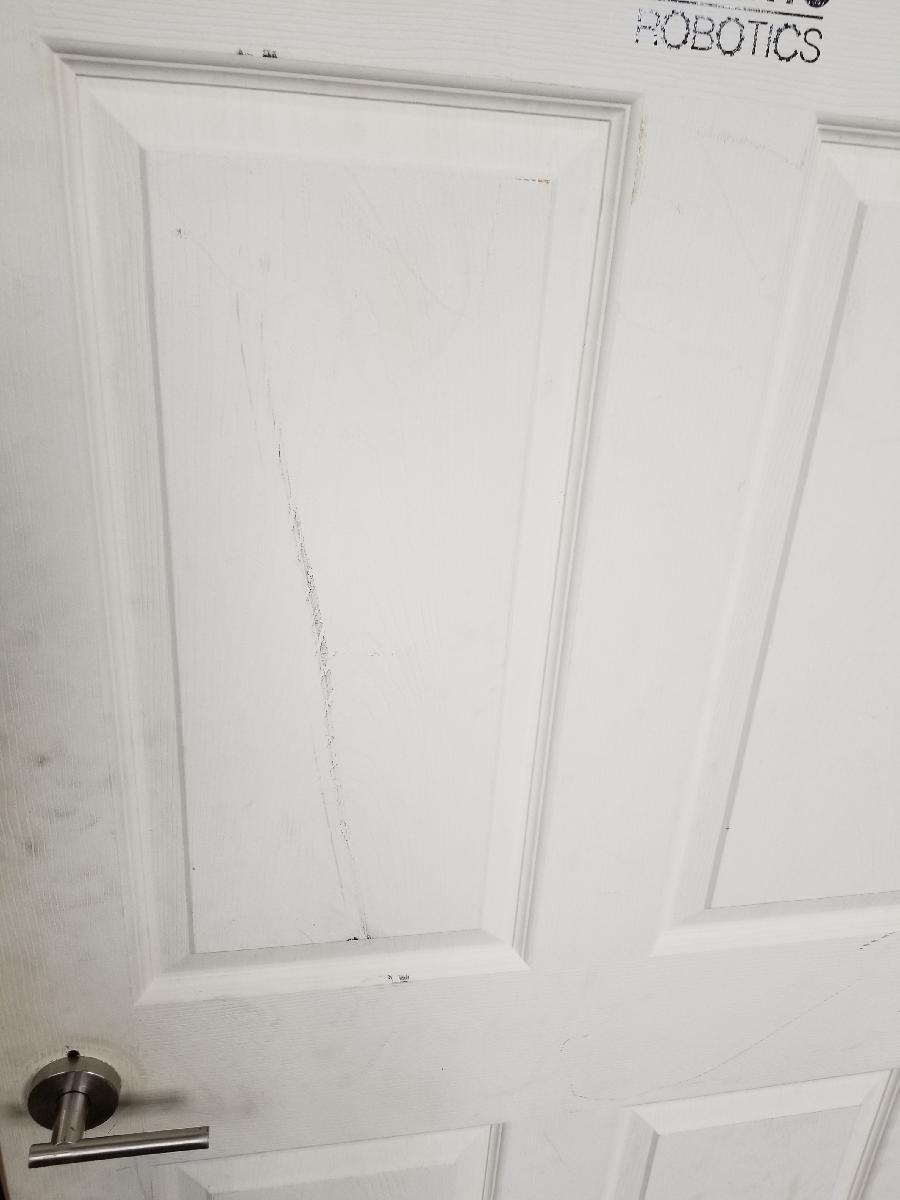doorHandle: (19, 1048, 216, 1171)
